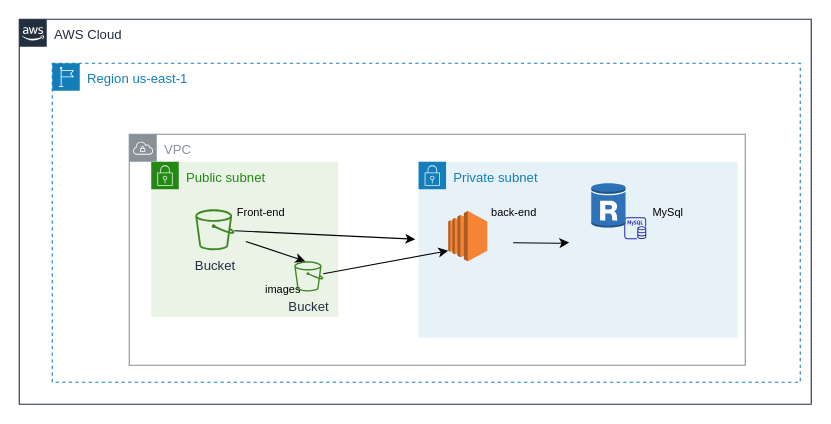
The diagram is 831 pixels wide and 424 high, and some of its shapes have lost their labels. Each missing label, with the centre of its shape:
"EC2" belongs at pixel 467 235.
"RDB" belongs at pixel 608 204.
